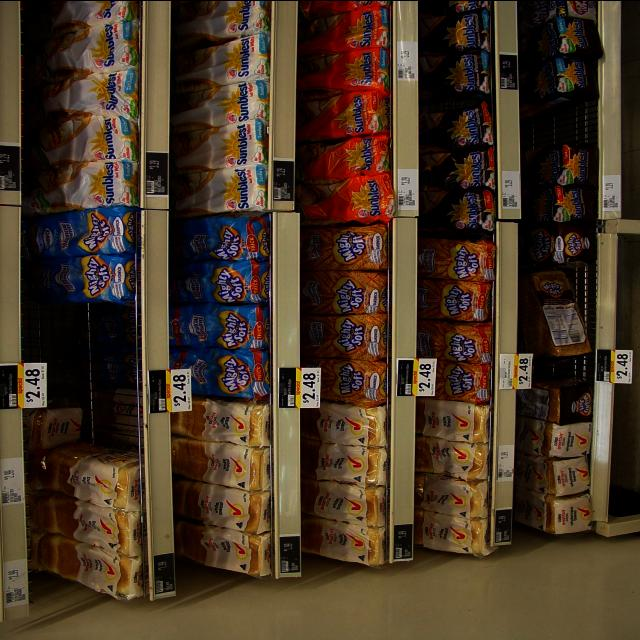empty_space: (69, 315, 131, 436), (531, 106, 590, 136)
